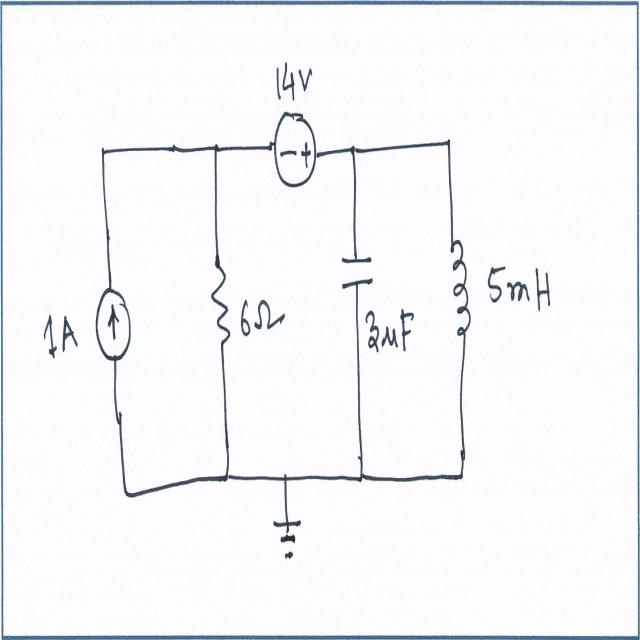capacitor: (336, 248, 379, 298)
current_source: (94, 281, 133, 365)
ground: (272, 514, 306, 566)
inductor: (446, 231, 473, 345)
resistor: (208, 254, 235, 367)
voltage_source: (271, 113, 326, 193)
